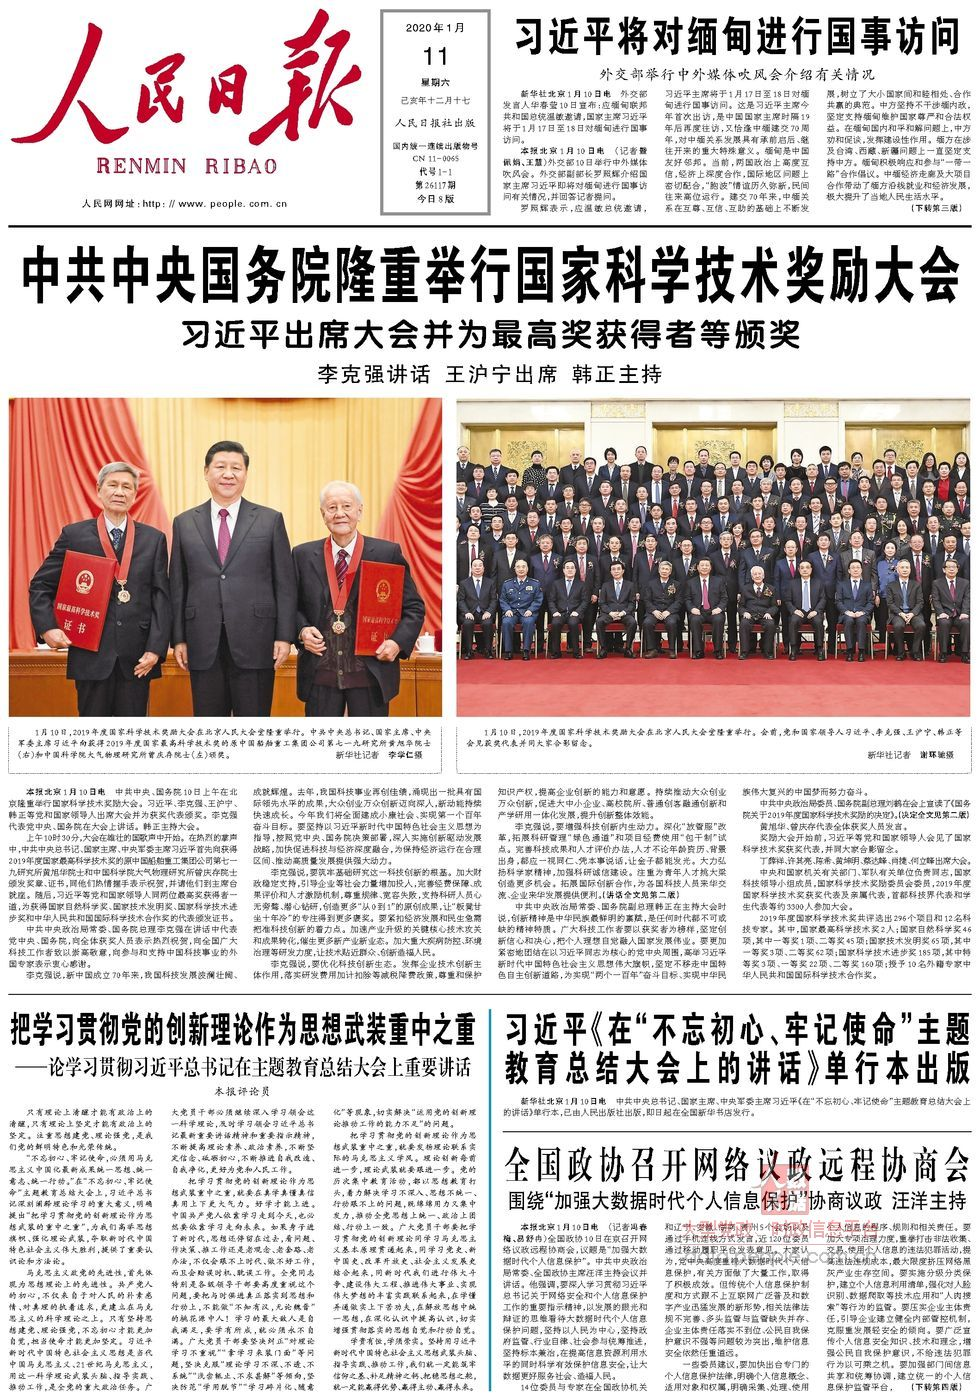pic: (453, 395, 971, 722), (5, 394, 446, 722)
